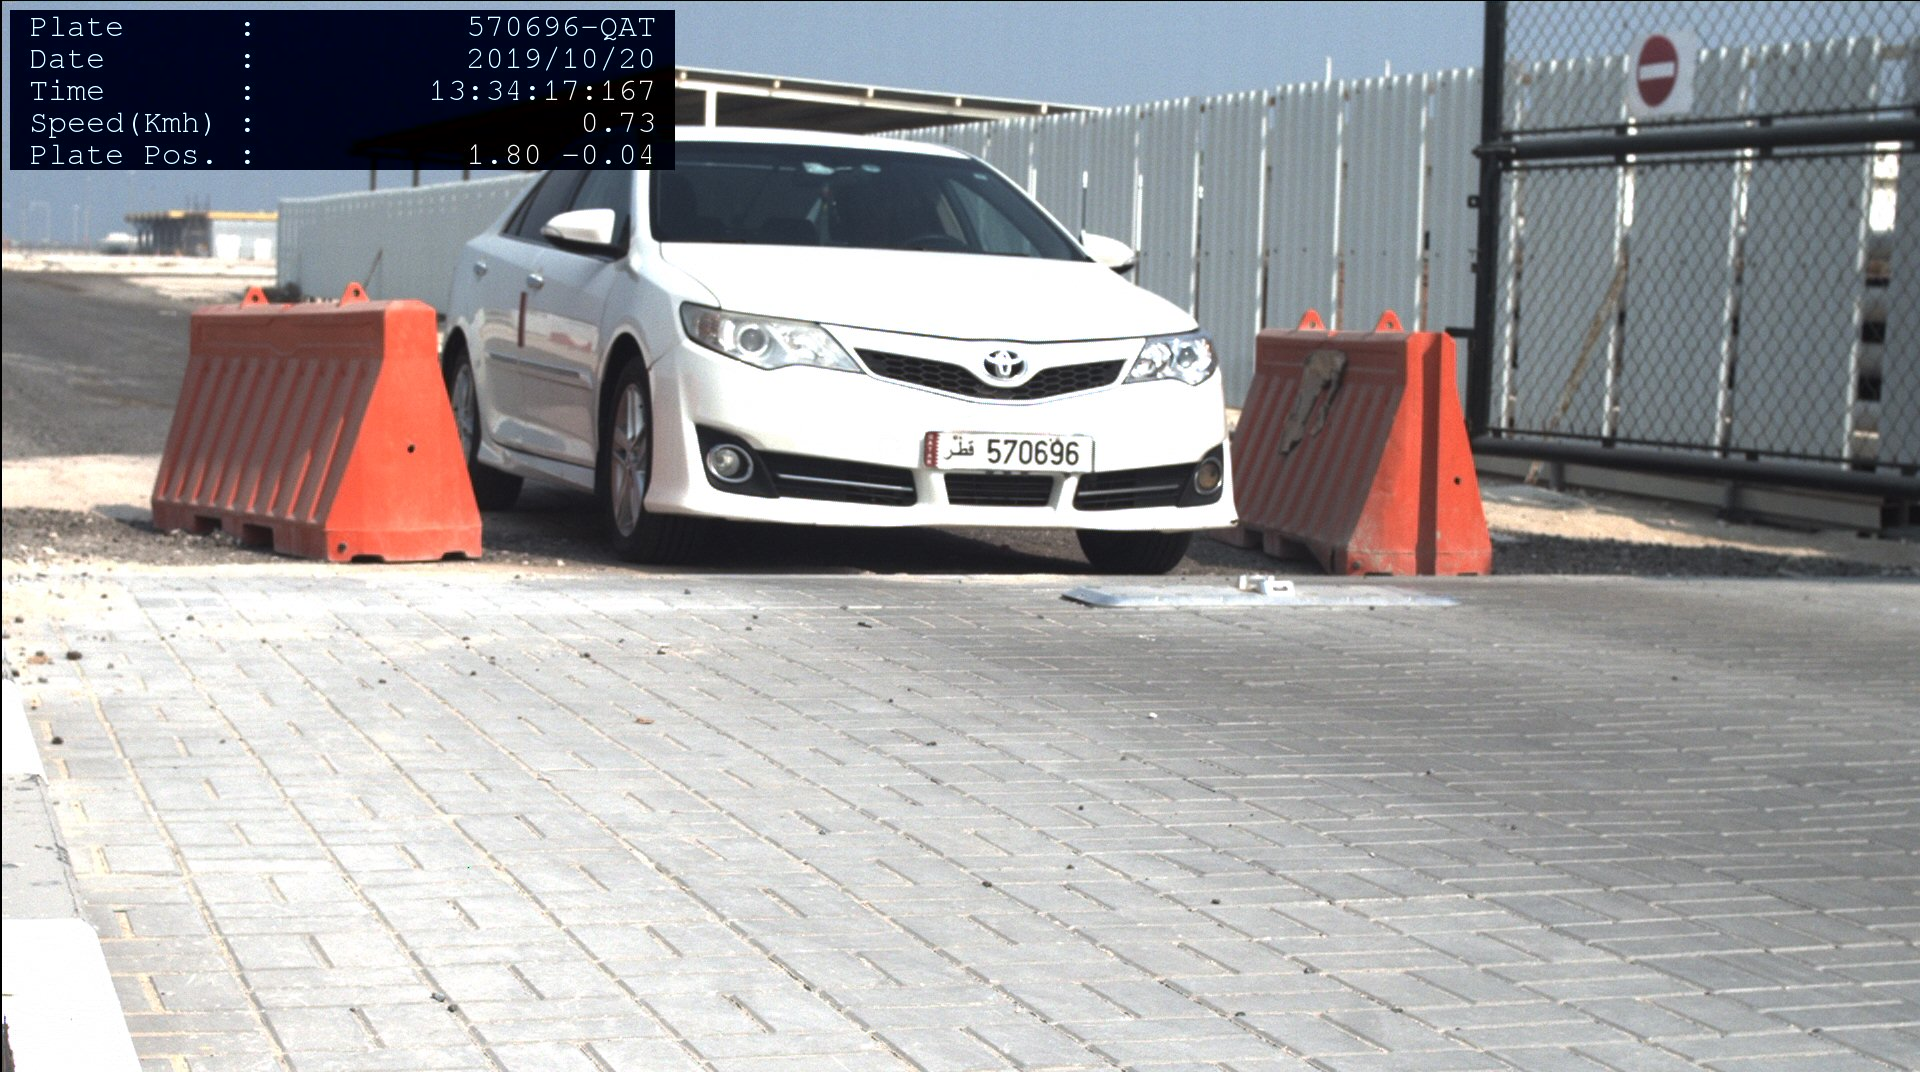License Plate: (923, 432, 1096, 471)
